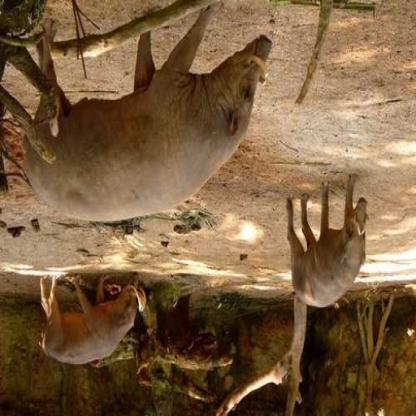boar: (11, 1, 282, 266), (25, 254, 155, 384), (277, 178, 377, 323)
